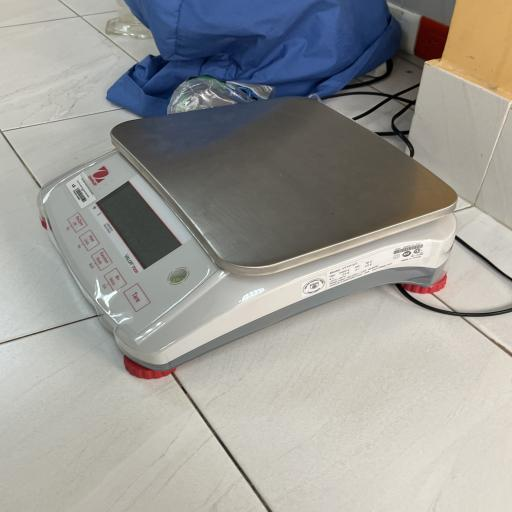Balanza_Granataria_Ohaus: (27, 91, 486, 382)
